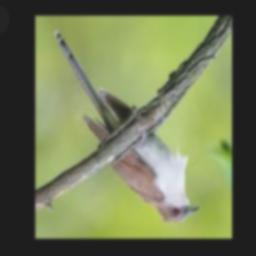Cuckoo: (54, 30, 199, 225)
